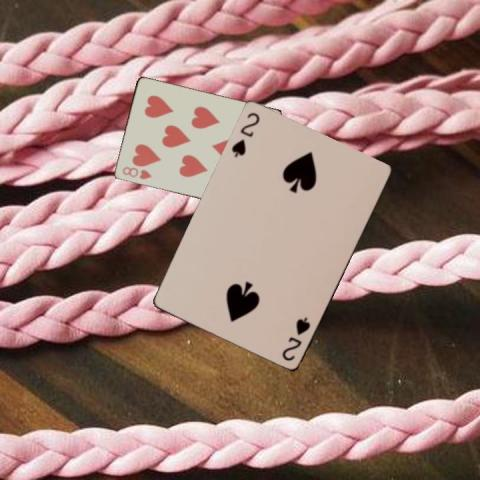2s: (229, 109, 261, 159), (279, 315, 312, 363)
8h: (119, 164, 153, 181)
